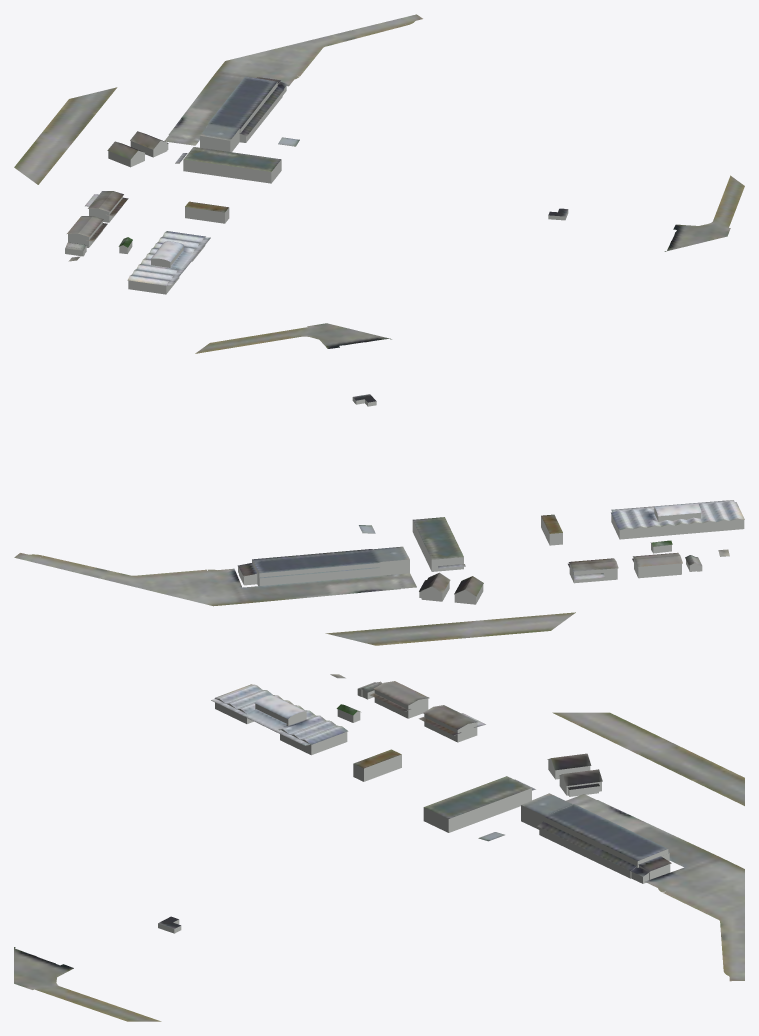
The model's file is LSMP_1_0.glb.
The picture shows the model from 3 angles, top to bottom: view 1: azimuth 30°, elevation 25°; view 2: azimuth 150°, elevation 25°; view 3: azimuth 270°, elevation 25°; orthographic projection. The views are drawn at different scales.
Parts seen in each view (by area): view 1: pavement_LSMP_pavement_5121_2376, building_454da3a45951b98c, building_bd38b8c0038fd9f7, building_6b4963accd41d35f, building_12df0cc3cf4e7449, building_f05e5d5694bdab28, building_3a3538d6a9f0fd09, building_6e2f620527c42bb4, building_0063e4bddfa26612; view 2: pavement_LSMP_pavement_5121_2376, building_454da3a45951b98c, building_12df0cc3cf4e7449, building_bd38b8c0038fd9f7, building_3a3538d6a9f0fd09, building_6b4963accd41d35f, building_6e2f620527c42bb4, building_f05e5d5694bdab28, building_0063e4bddfa26612; view 3: pavement_LSMP_pavement_5121_2376, building_454da3a45951b98c, building_bd38b8c0038fd9f7, building_12df0cc3cf4e7449, building_6b4963accd41d35f, building_3a3538d6a9f0fd09, building_f05e5d5694bdab28, building_6e2f620527c42bb4, building_0063e4bddfa26612.
Part boxes in pixels (x1,y1,x2,y2): pavement_LSMP_pavement_5121_2376: (14,14,744,251); building_454da3a45951b98c: (65,201,228,285); building_bd38b8c0038fd9f7: (200,76,287,140); building_6b4963accd41d35f: (130,131,299,171); building_12df0cc3cf4e7449: (65,207,229,294); building_f05e5d5694bdab28: (130,141,281,183); building_3a3538d6a9f0fd09: (200,82,286,152); building_6e2f620527c42bb4: (85,141,145,216); building_0063e4bddfa26612: (89,151,144,222); pavement_LSMP_pavement_5121_2376: (14,323,575,645); building_454da3a45951b98c: (541,500,744,567); building_12df0cc3cf4e7449: (541,508,744,578); building_bd38b8c0038fd9f7: (237,546,409,578); building_3a3538d6a9f0fd09: (238,559,409,585); building_6b4963accd41d35f: (359,517,465,593); building_6e2f620527c42bb4: (454,558,618,596); building_f05e5d5694bdab28: (412,520,463,601); building_0063e4bddfa26612: (454,564,617,604); pavement_LSMP_pavement_5121_2376: (14,712,744,1021); building_454da3a45951b98c: (211,674,429,768); building_bd38b8c0038fd9f7: (521,793,671,876); building_12df0cc3cf4e7449: (215,688,428,781); building_6b4963accd41d35f: (424,769,602,841); building_3a3538d6a9f0fd09: (521,805,670,883); building_f05e5d5694bdab28: (423,774,601,832); building_6e2f620527c42bb4: (419,705,591,770); building_0063e4bddfa26612: (424,714,590,779).
Size of the model in its own units: 555 by 15.72 by 500.
3 materials, 2 textured.
